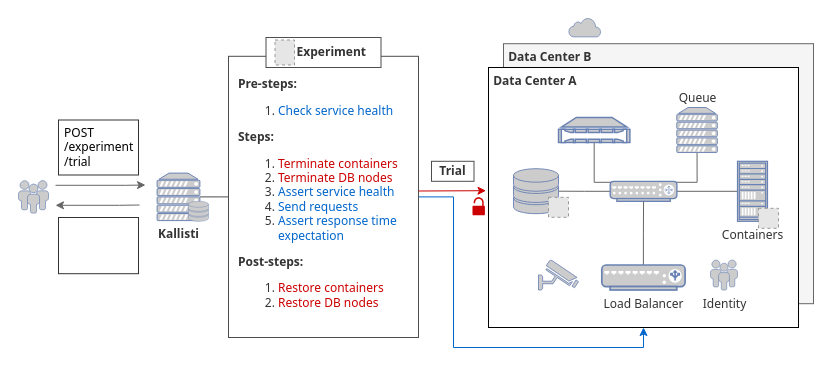
Image size: 831x374. Some labels were removed from this diagram. Grey dashed boxes stand in for pictures. The box of each missing label's shape, as (x1, y1, x2, y2) in pixels:
Database: (512, 167, 559, 214)
GET /trial /report: (58, 216, 138, 274)
Metrics: (537, 258, 579, 290)
Network: (609, 180, 677, 202)
Storage: (557, 116, 630, 143)
Target Service: (567, 16, 601, 37)
